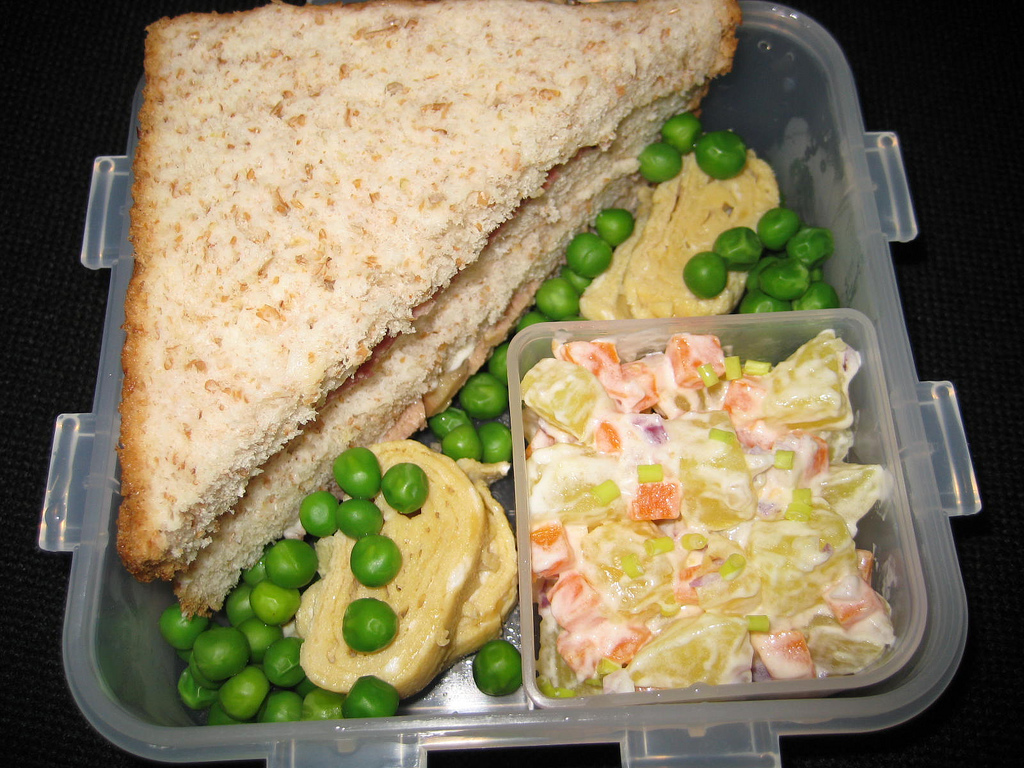boiled peas: (173, 627, 291, 709), (719, 235, 809, 307)
slice of bread: (165, 27, 463, 407)
